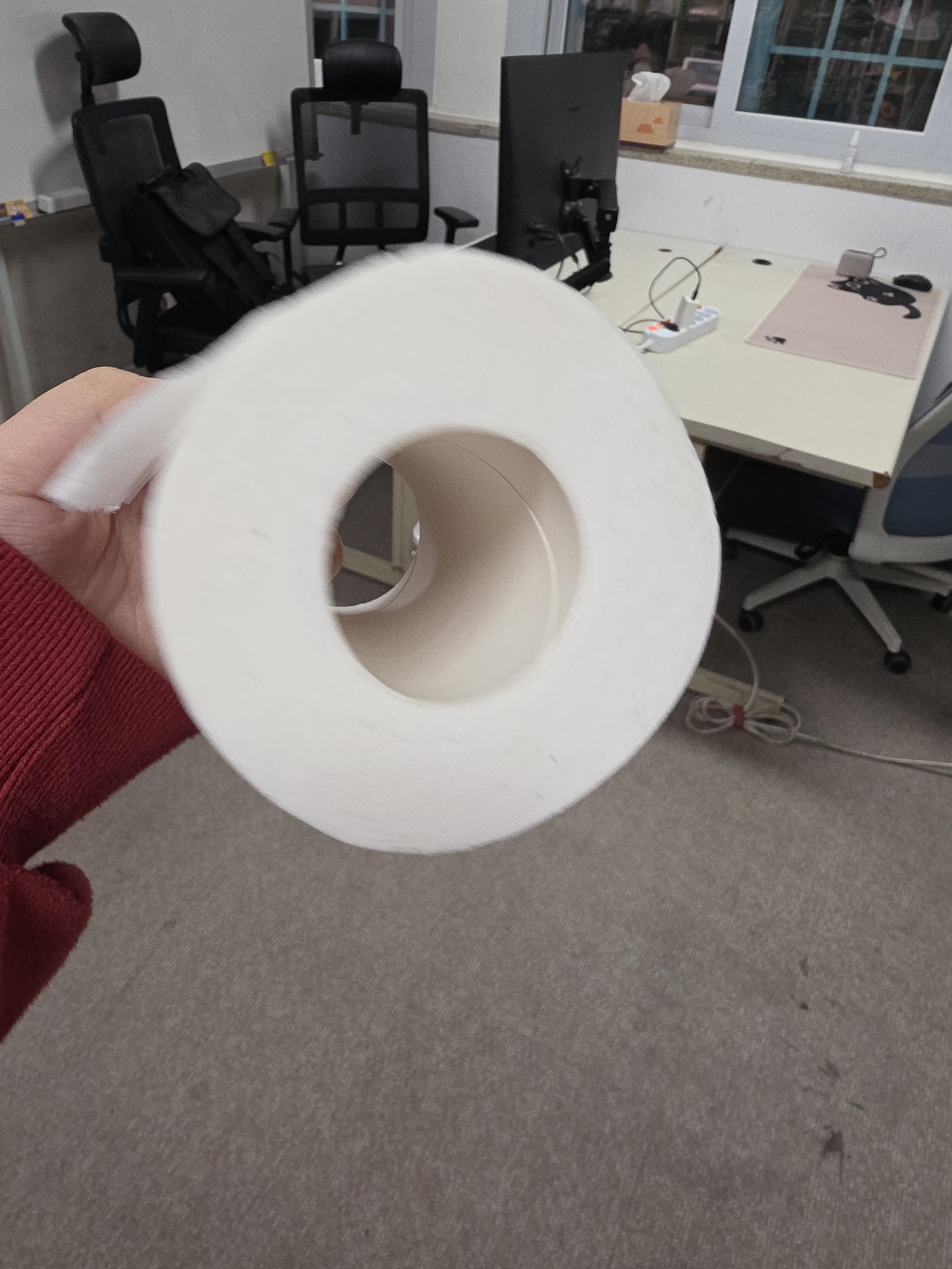tissue: (40, 243, 724, 857), (620, 70, 682, 149)
